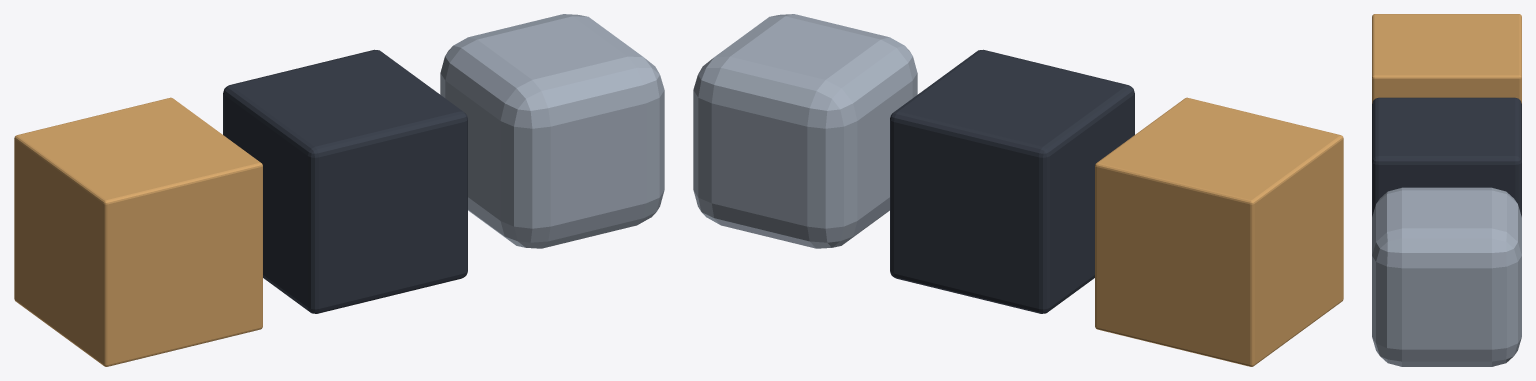
Rendered from furniture-profiles.glb.
3 views of the same model, side by side, from view 1: azimuth 30°, elevation 25°; view 2: azimuth 150°, elevation 25°; view 3: azimuth 270°, elevation 25° (orthographic). The views are drawn at different scales.
Visible parts, largest first — view 1: Furniture_Shelf, Furniture_Frame, Furniture_Fastener; view 2: Furniture_Shelf, Furniture_Frame, Furniture_Fastener; view 3: Furniture_Fastener, Furniture_Frame, Furniture_Shelf.
Boxes of the visible parts, left/top/right/bottom form: Furniture_Shelf: left=14, top=97, right=262, bottom=366; Furniture_Frame: left=223, top=49, right=467, bottom=313; Furniture_Fastener: left=440, top=14, right=664, bottom=248; Furniture_Shelf: left=1095, top=97, right=1343, bottom=366; Furniture_Frame: left=890, top=49, right=1134, bottom=313; Furniture_Fastener: left=693, top=14, right=917, bottom=248; Furniture_Fastener: left=1372, top=187, right=1521, bottom=366; Furniture_Frame: left=1372, top=97, right=1521, bottom=216; Furniture_Shelf: left=1372, top=14, right=1521, bottom=103.
Size of the model in its own units: 3.6 by 1 by 1.
